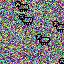sheep: (15, 1, 29, 12), (19, 14, 33, 25), (36, 34, 50, 45), (53, 21, 64, 33), (59, 58, 64, 64)
